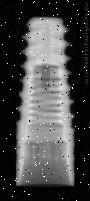Novodent: (15, 16, 75, 187)
